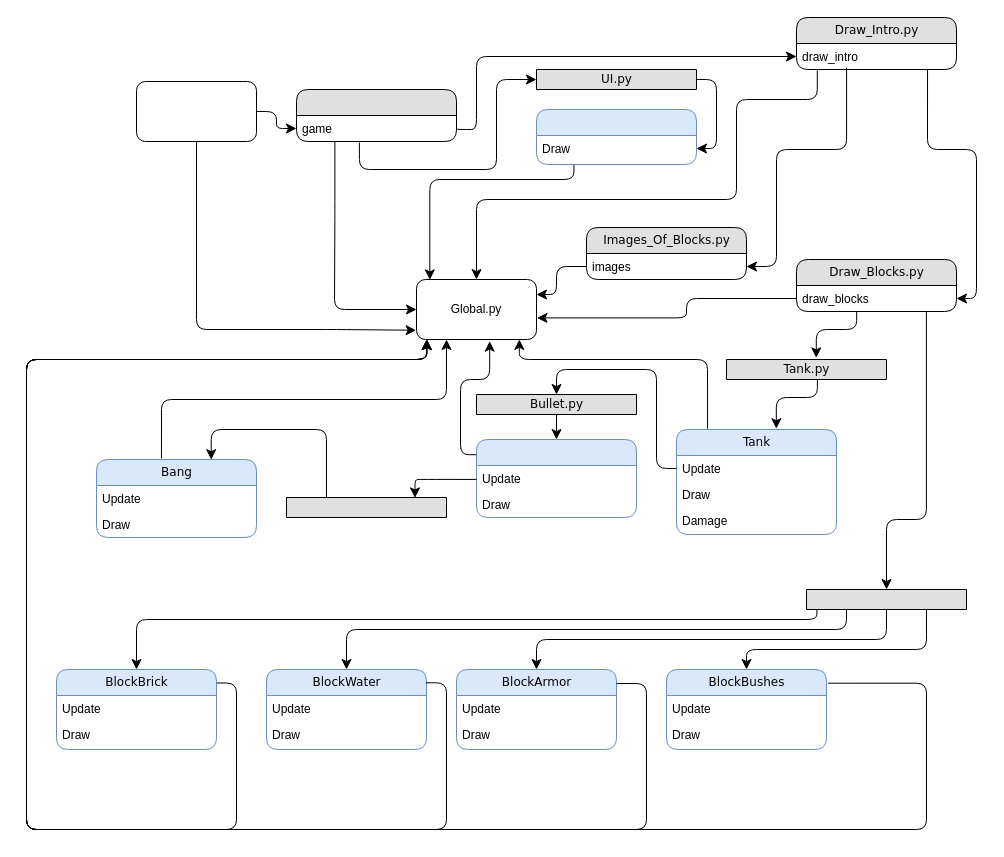
Image size: 1004x857. Some labels were removed from this diagram. The shapes that lost their labels are listed below. From the top down, each one's box as (x1, y1, x2, y2) in pixels, then its label:
(136, 80, 256, 142): main.py
(296, 88, 456, 142): Playing.py
(536, 108, 696, 164): UI
(476, 438, 636, 518): Bullet
(286, 496, 446, 518): Bang.py
(806, 588, 966, 610): Blocks.py
